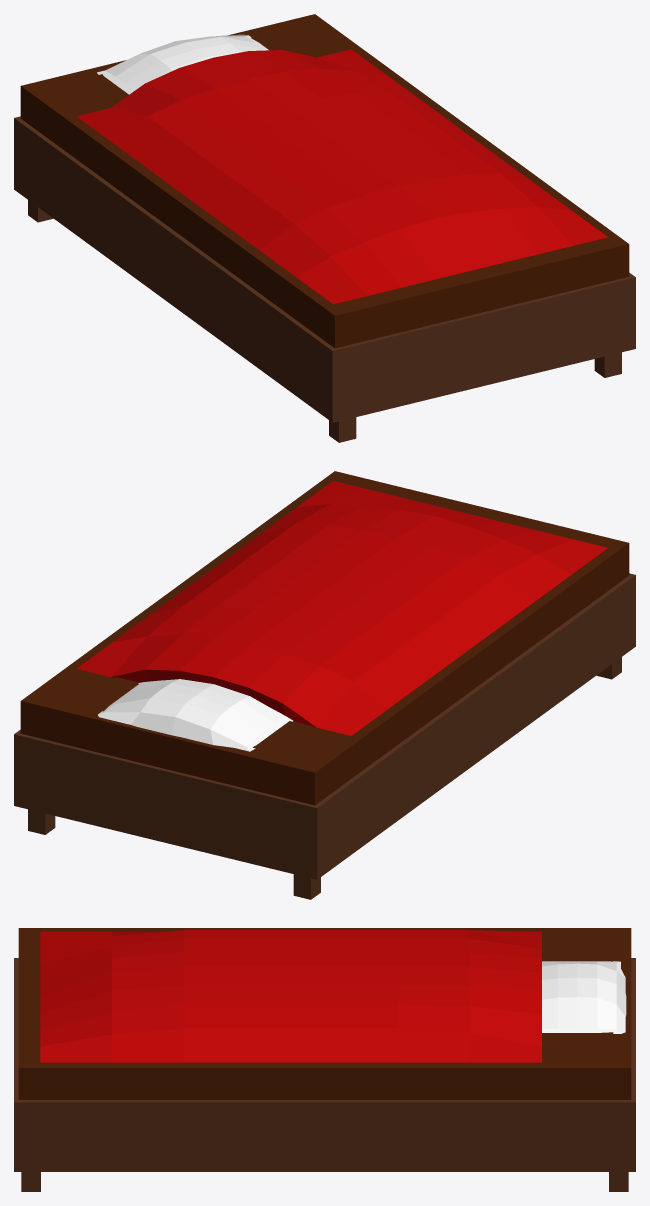
The model's file is bed2.fbx.
3 renders of one model, top to bottom at view 1: azimuth 30°, elevation 25°; view 2: azimuth 150°, elevation 25°; view 3: azimuth 270°, elevation 25°, orthographic. The views are drawn at different scales.
Visible parts, largest first — view 1: bed; view 2: bed; view 3: bed.
Part boxes in pixels (x1,y1,x2,y2): bed: [14, 14, 635, 442]; bed: [14, 471, 635, 899]; bed: [14, 928, 635, 1191].
Bounding box in the file's own units: 110 × 55.87 × 200.
